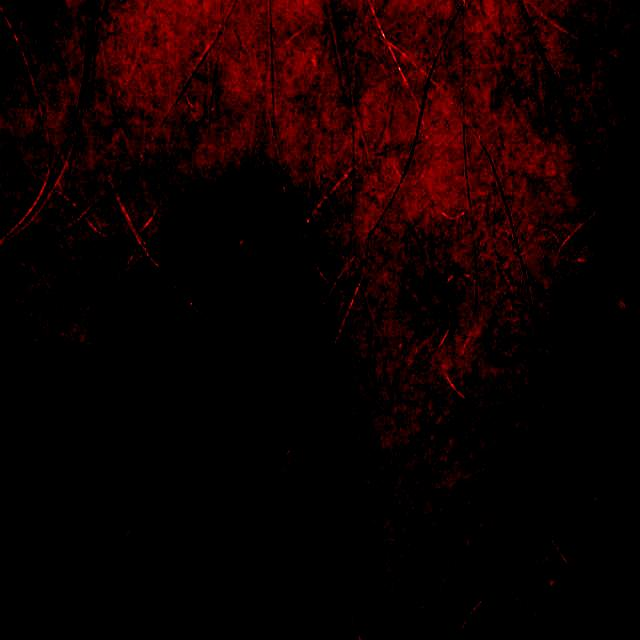NV: (116, 144, 361, 545)
